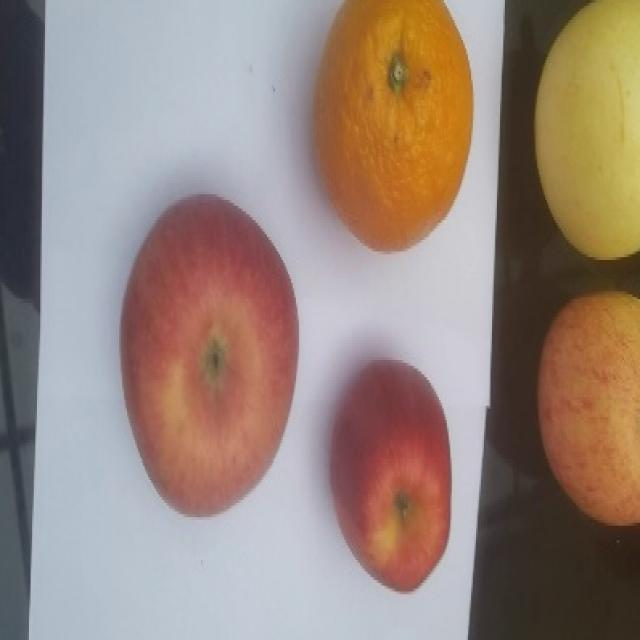Apple: (119, 193, 300, 517), (328, 358, 452, 593), (536, 289, 639, 527)
Orange: (311, 0, 474, 253)
